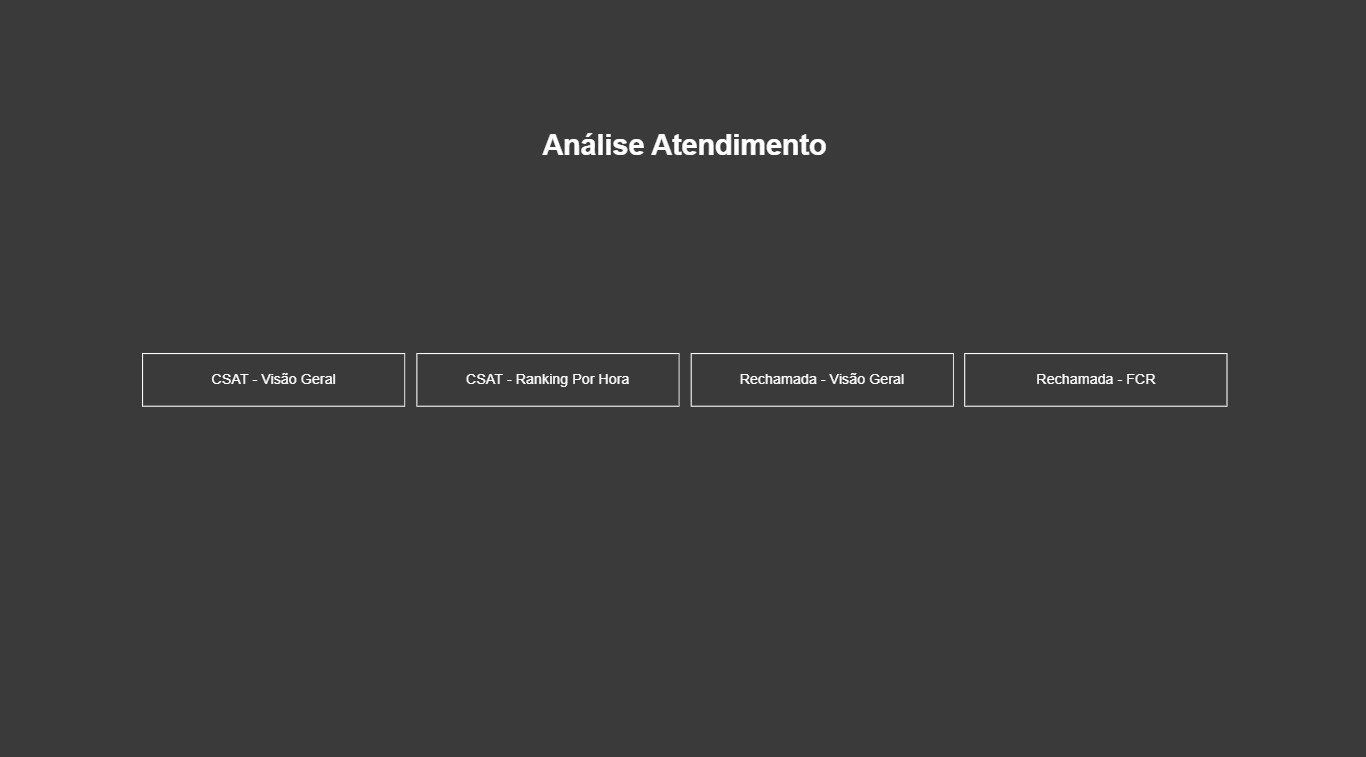

The dashboard page shown, as its layout file describes it:
{"tool":"powerbi","page":{"name":"Pagina Inicial","canvas":[1280,720],"ordinal":0},"visuals":[{"type":"pageNavigator","box":[135,335,1010,50],"z":0},{"type":"textbox","box":[418.3,121.7,441.7,55],"z":1000}]}

Visuals, with their boxes in screenshot pixels (x1, y1, x2, y2), scaled from the page's 1280x720 canvas onto the 1366x757 screenshot:
pageNavigator: rect(144, 352, 1222, 405)
textbox: rect(446, 128, 918, 186)
